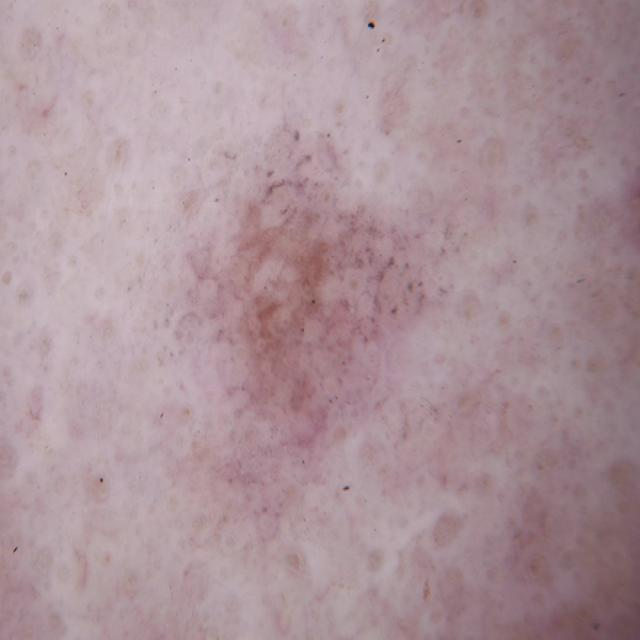Skin-Cancer Pigmented benign keratosis: (11, 4, 640, 639)
